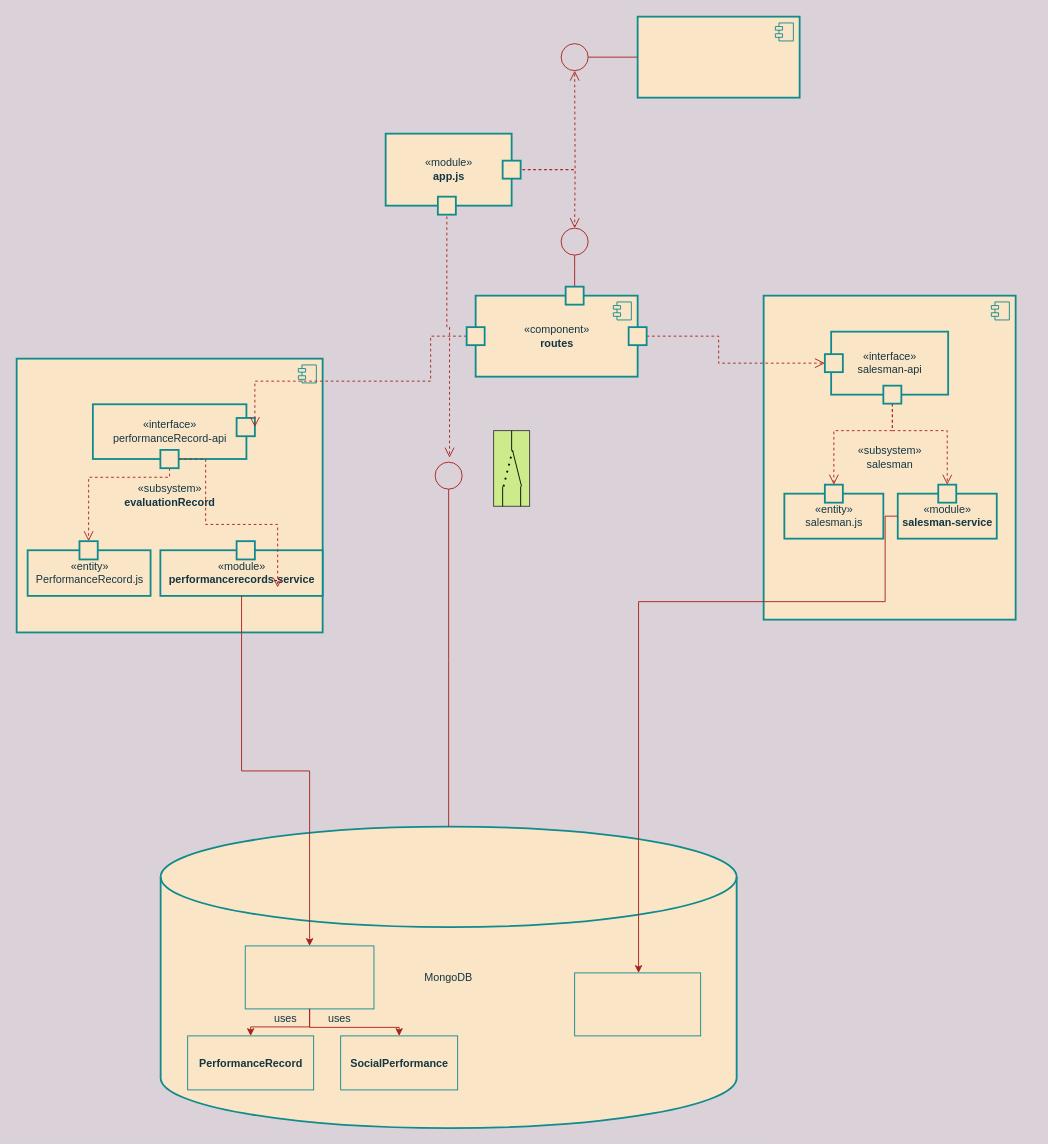
The diagram is 1048 pixels wide and 1144 high, and some of its shapes have lost their labels. Each missing label, with the centre of its shape:
"EvaluationRecord" belongs at (x=309, y=977).
"Salesman" belongs at (x=637, y=1004).
"«subsystem» ExpressJS" belongs at (x=718, y=56).
